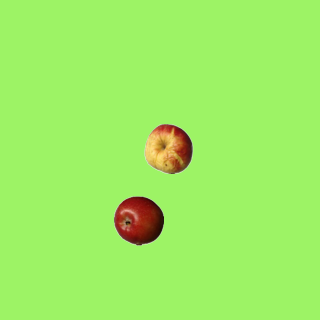Apple Braeburn: (113, 195, 163, 245)
Apple Red Yellow 1: (143, 123, 193, 173)
